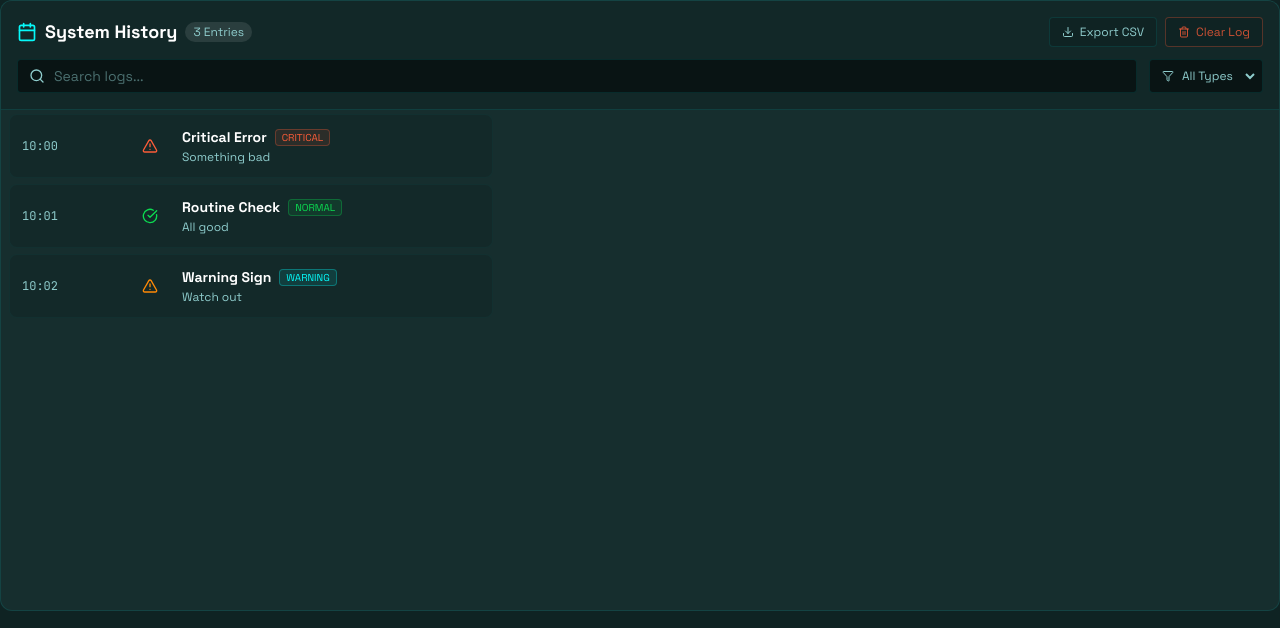
it: HistoryPanel › filters by type
Select "Normal" in the dropdown at (1218, 76), box [1178,61,1258,91]
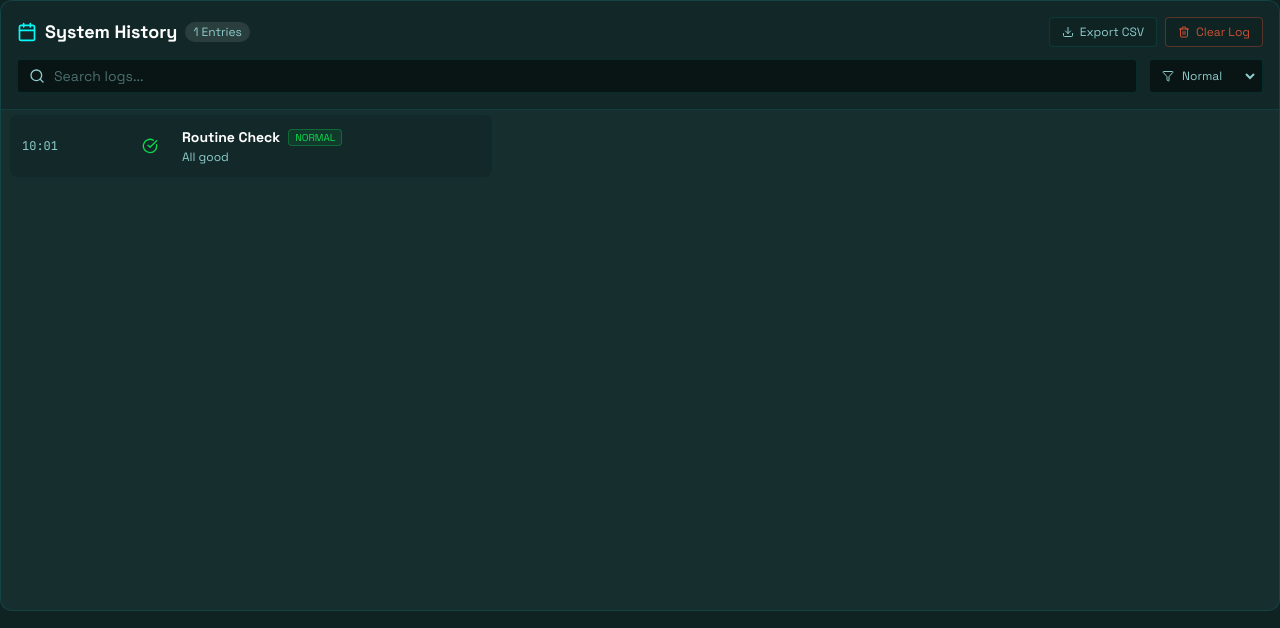
Expected: the text "Routine Check" is shown, [182,127,280,147]
Expected: the text "Critical Error" is gone
